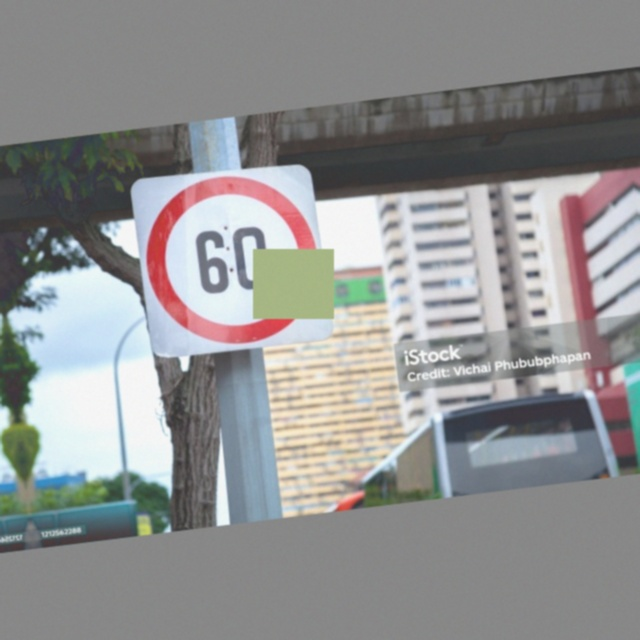Speed_Limit_60: (132, 161, 336, 363)
